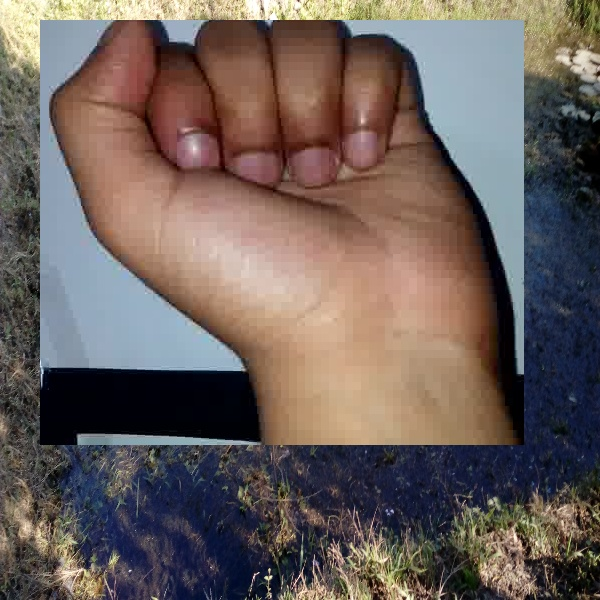A: (40, 20, 524, 445)
